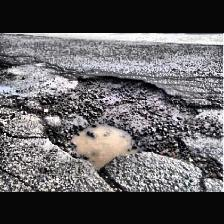pothole: (37, 72, 203, 172)
